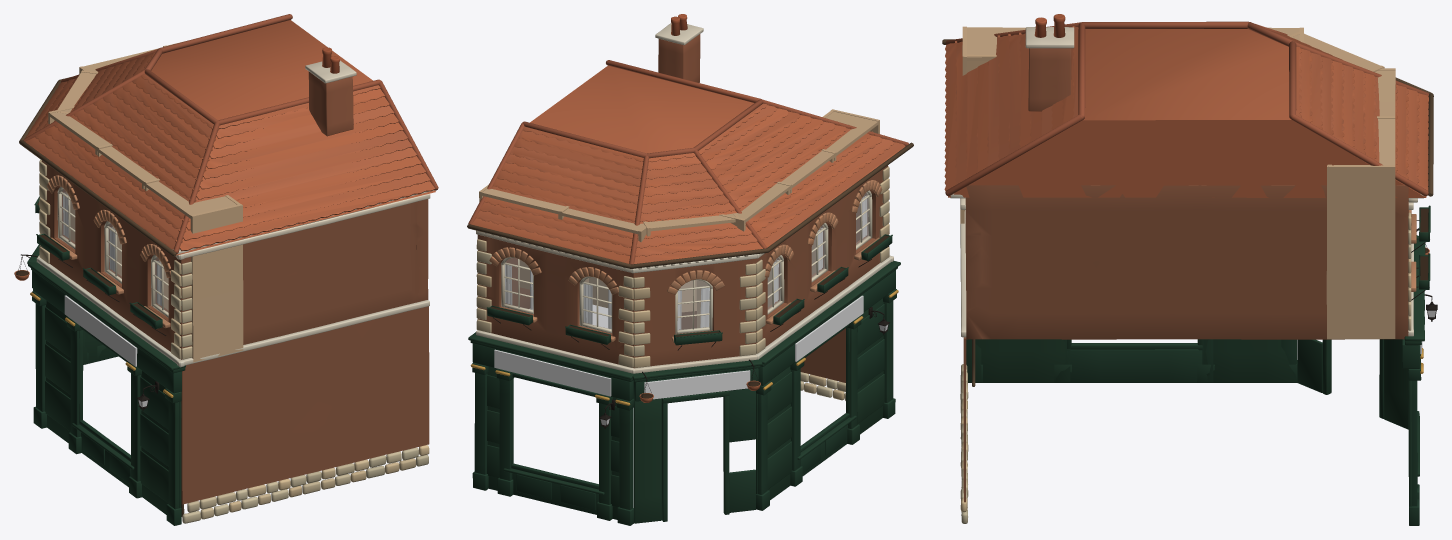
The model's file is library_facade.glb.
3 views of the same model, side by side, from view 1: azimuth 30°, elevation 25°; view 2: azimuth 150°, elevation 25°; view 3: azimuth 270°, elevation 25° (orthographic). The views are drawn at different scales.
Visible parts, largest first — view 1: Sammel Ziegel, Sammel Stein, Sammel Lack, Sammel Putz innen, Sammel Putz, Sammel Metall, Schild library fascia, Glas, Vorhang Leinen; view 2: Sammel Stein, Sammel Lack, Sammel Ziegel, Sammel Putz innen, Sammel Putz, Glas, Schild library fascia, Sammel Metall, Vorhang Leinen, Schild library door; view 3: Sammel Stein, Sammel Ziegel, Sammel Lack, Sammel Putz innen, Sammel Putz, Sammel Metall.
Part boxes in pixels (x1=…): Sammel Ziegel: x1=41, y1=71, x2=429, y2=504; Sammel Stein: x1=23, y1=14, x2=438, y2=523; Sammel Lack: x1=27, y1=186, x2=185, y2=525; Sammel Putz innen: x1=48, y1=41, x2=243, y2=362; Sammel Putz: x1=14, y1=47, x2=434, y2=367; Sammel Metall: x1=17, y1=77, x2=184, y2=516; Schild library fascia: x1=64, y1=295, x2=137, y2=366; Glas: x1=62, y1=189, x2=168, y2=312; Vorhang Leinen: x1=63, y1=192, x2=161, y2=305; Sammel Stein: x1=468, y1=60, x2=908, y2=400; Sammel Lack: x1=468, y1=190, x2=900, y2=525; Sammel Ziegel: x1=477, y1=34, x2=887, y2=382; Sammel Putz innen: x1=479, y1=109, x2=879, y2=327; Sammel Putz: x1=476, y1=14, x2=893, y2=402; Glas: x1=505, y1=193, x2=868, y2=329; Schild library fascia: x1=494, y1=295, x2=863, y2=396; Sammel Metall: x1=467, y1=142, x2=913, y2=428; Vorhang Leinen: x1=505, y1=196, x2=867, y2=329; Schild library door: x1=644, y1=370, x2=750, y2=399; Sammel Stein: x1=944, y1=21, x2=1428, y2=523; Sammel Ziegel: x1=963, y1=48, x2=1416, y2=502; Sammel Lack: x1=966, y1=205, x2=1430, y2=525; Sammel Putz innen: x1=960, y1=26, x2=1395, y2=339; Sammel Putz: x1=950, y1=14, x2=1429, y2=337; Sammel Metall: x1=942, y1=39, x2=1437, y2=386.
Bounding box in the file's own units: 7.06 × 9.92 × 9.4.
